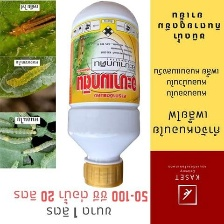insecticide: (65, 0, 143, 188)
